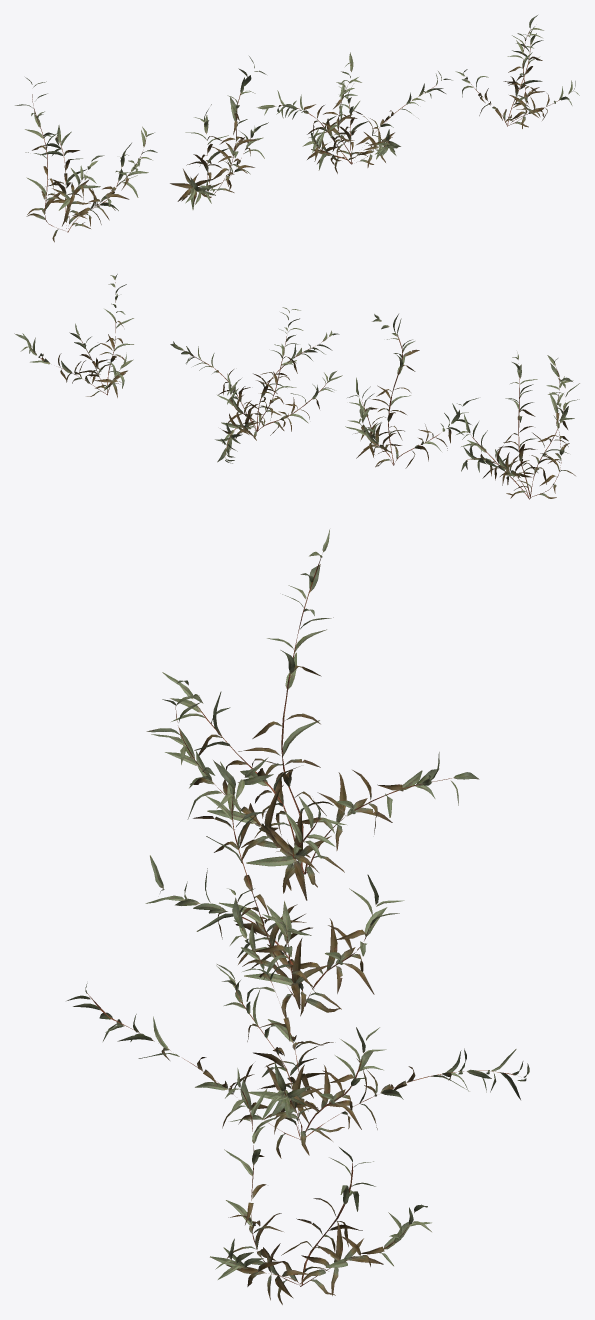
Rendered from shrub_02.glb.
3 views of the same model, one above another, from view 1: azimuth 30°, elevation 25°; view 2: azimuth 150°, elevation 25°; view 3: azimuth 270°, elevation 25° (orthographic). The views are drawn at different scales.
Visible parts, largest first — view 1: shrub_02_a, shrub_02_c, shrub_02_b, shrub_02_d; view 2: shrub_02_a, shrub_02_c, shrub_02_b, shrub_02_d; view 3: shrub_02_a, shrub_02_c, shrub_02_b, shrub_02_d.
Boxes of the visible parts, x1,y1,x2,y2 form: shrub_02_a: (15,77,157,242); shrub_02_c: (257,52,452,173); shrub_02_b: (170,56,268,209); shrub_02_d: (455,15,579,128); shrub_02_a: (456,352,579,499); shrub_02_c: (170,307,342,463); shrub_02_b: (345,314,478,468); shrub_02_d: (14,274,133,397); shrub_02_a: (146,529,479,900); shrub_02_c: (67,888,529,1158); shrub_02_b: (145,757,404,1017); shrub_02_d: (210,1068,431,1304).
Size of the model in its own units: 6.05 by 1.7 by 2.29.
1 material, 1 textured.
